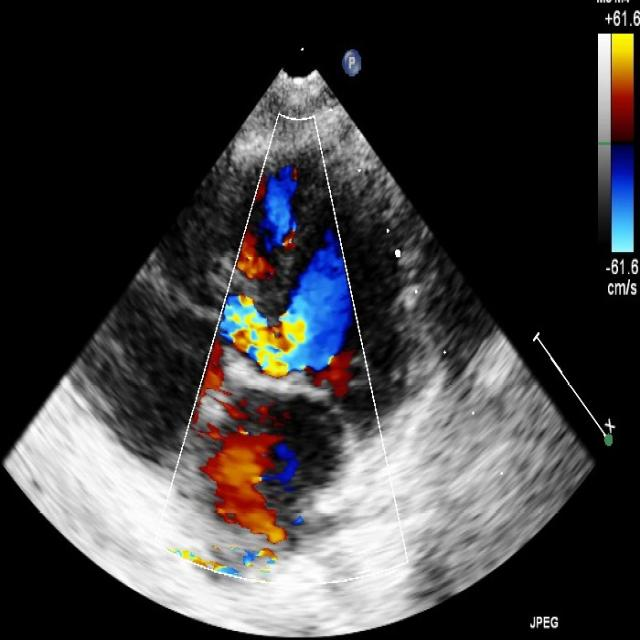VSDType2: (212, 277, 318, 395)
